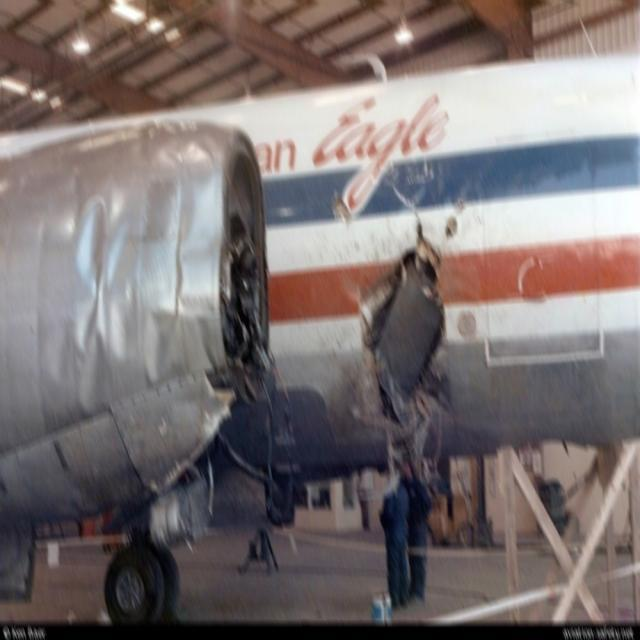dent: (75, 197, 114, 298), (76, 333, 117, 423), (74, 265, 104, 357), (146, 310, 172, 382), (112, 297, 137, 357)
